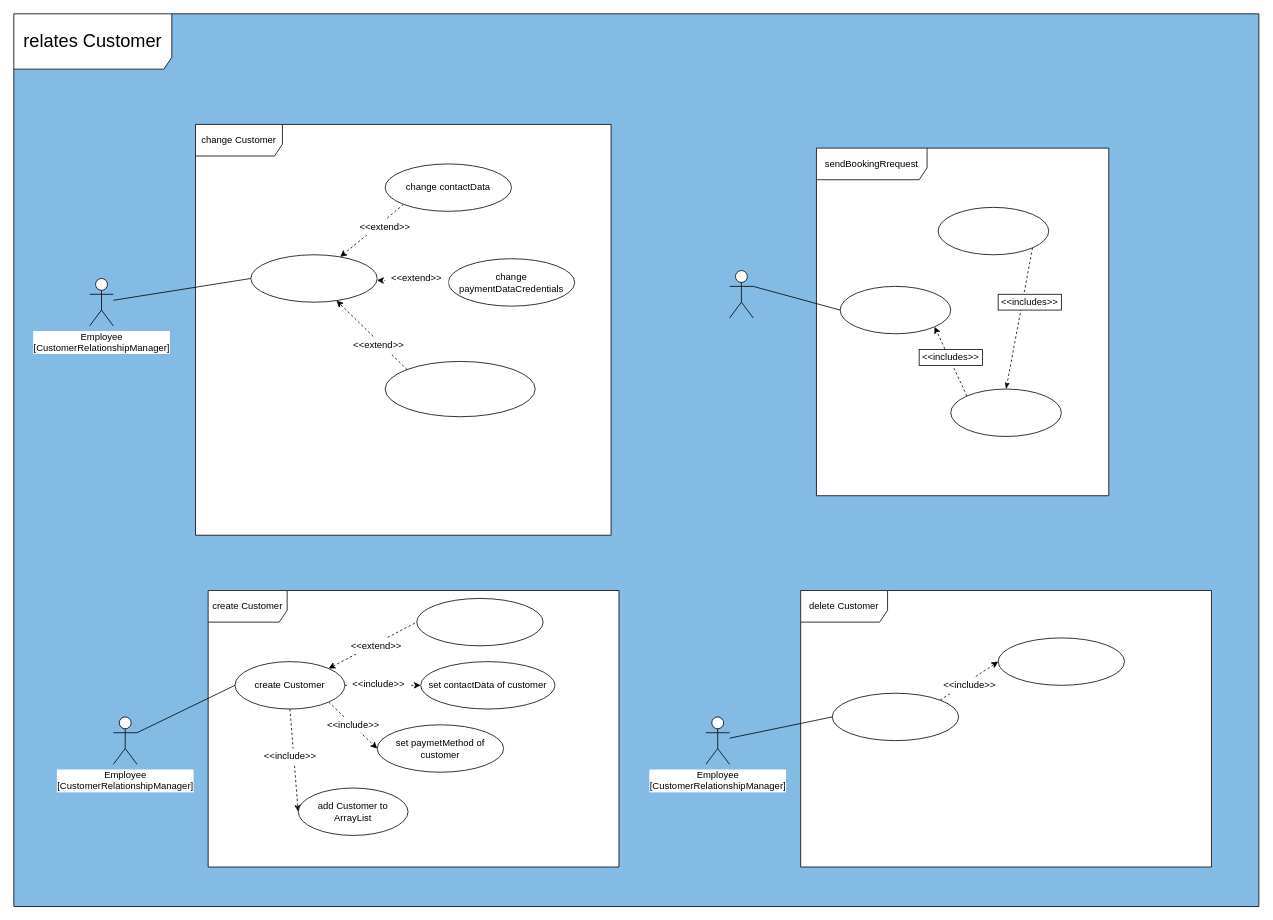
Some shapes in this 1273 by 920 pixel diagram are drawn without their labels. Here are the shapes that lost their labels. From the top down, the centre of each, then its label:
At point (993, 231): "create bookingRequest instance".
At point (313, 278): "change Customer in CustomerList".
At point (741, 294): "Customer".
At point (895, 310): "add bookingRequest to ArrayList".
At point (459, 389): "change paymentMethod".
At point (1005, 412): "set attributes by given parameter".
At point (479, 622): "set paymentDataCredentials".
At point (1061, 661): "rearrange customer in list".
At point (895, 716): "remove Customer from CustomerList".
